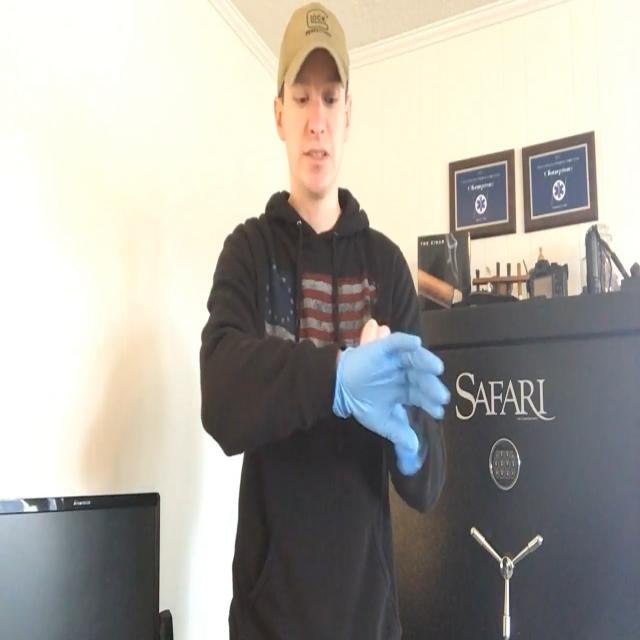Gloves: (329, 318, 453, 471)
